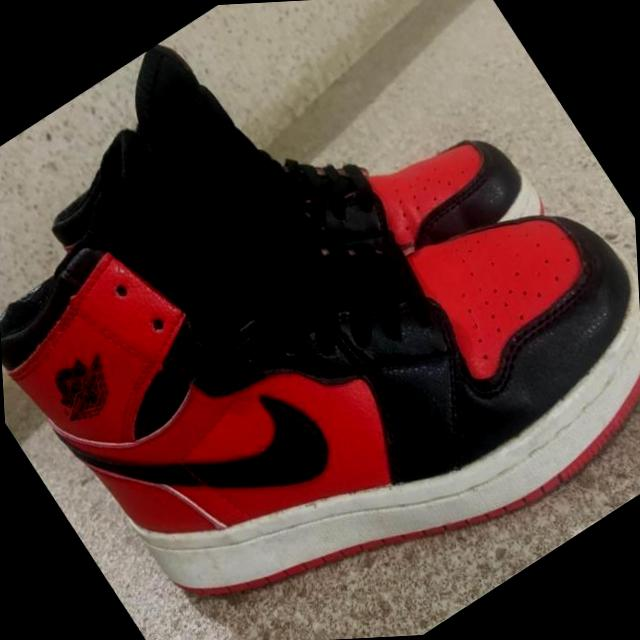nike_fake_jordan: (0, 0, 640, 640), (0, 0, 562, 458)
